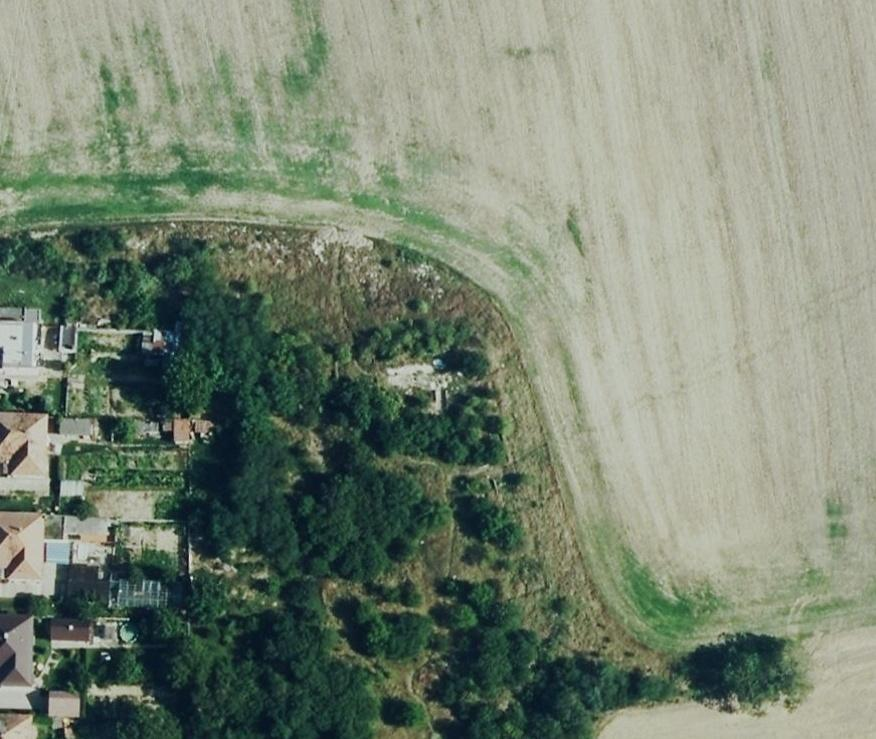field: (0, 2, 876, 648)
forest: (58, 231, 676, 737)
